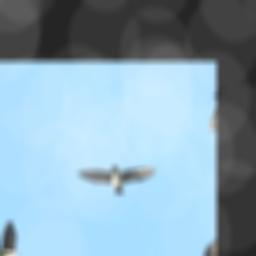Swallow: (77, 139, 160, 208)
